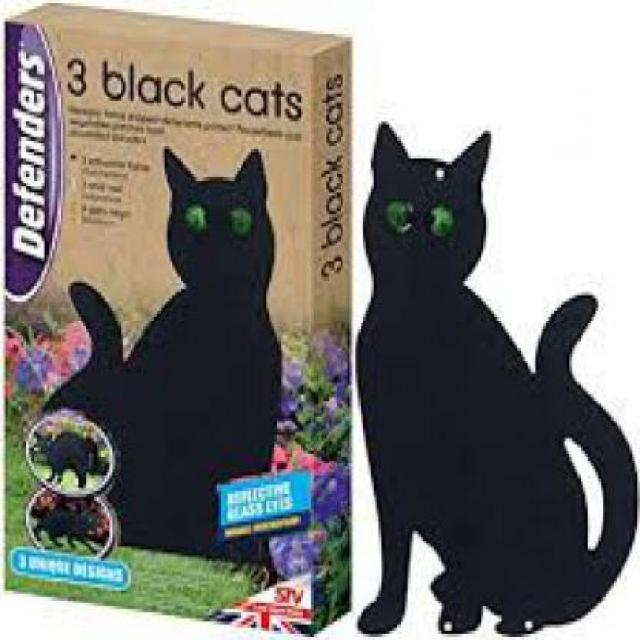animals: (350, 111, 638, 634), (73, 142, 285, 410)
